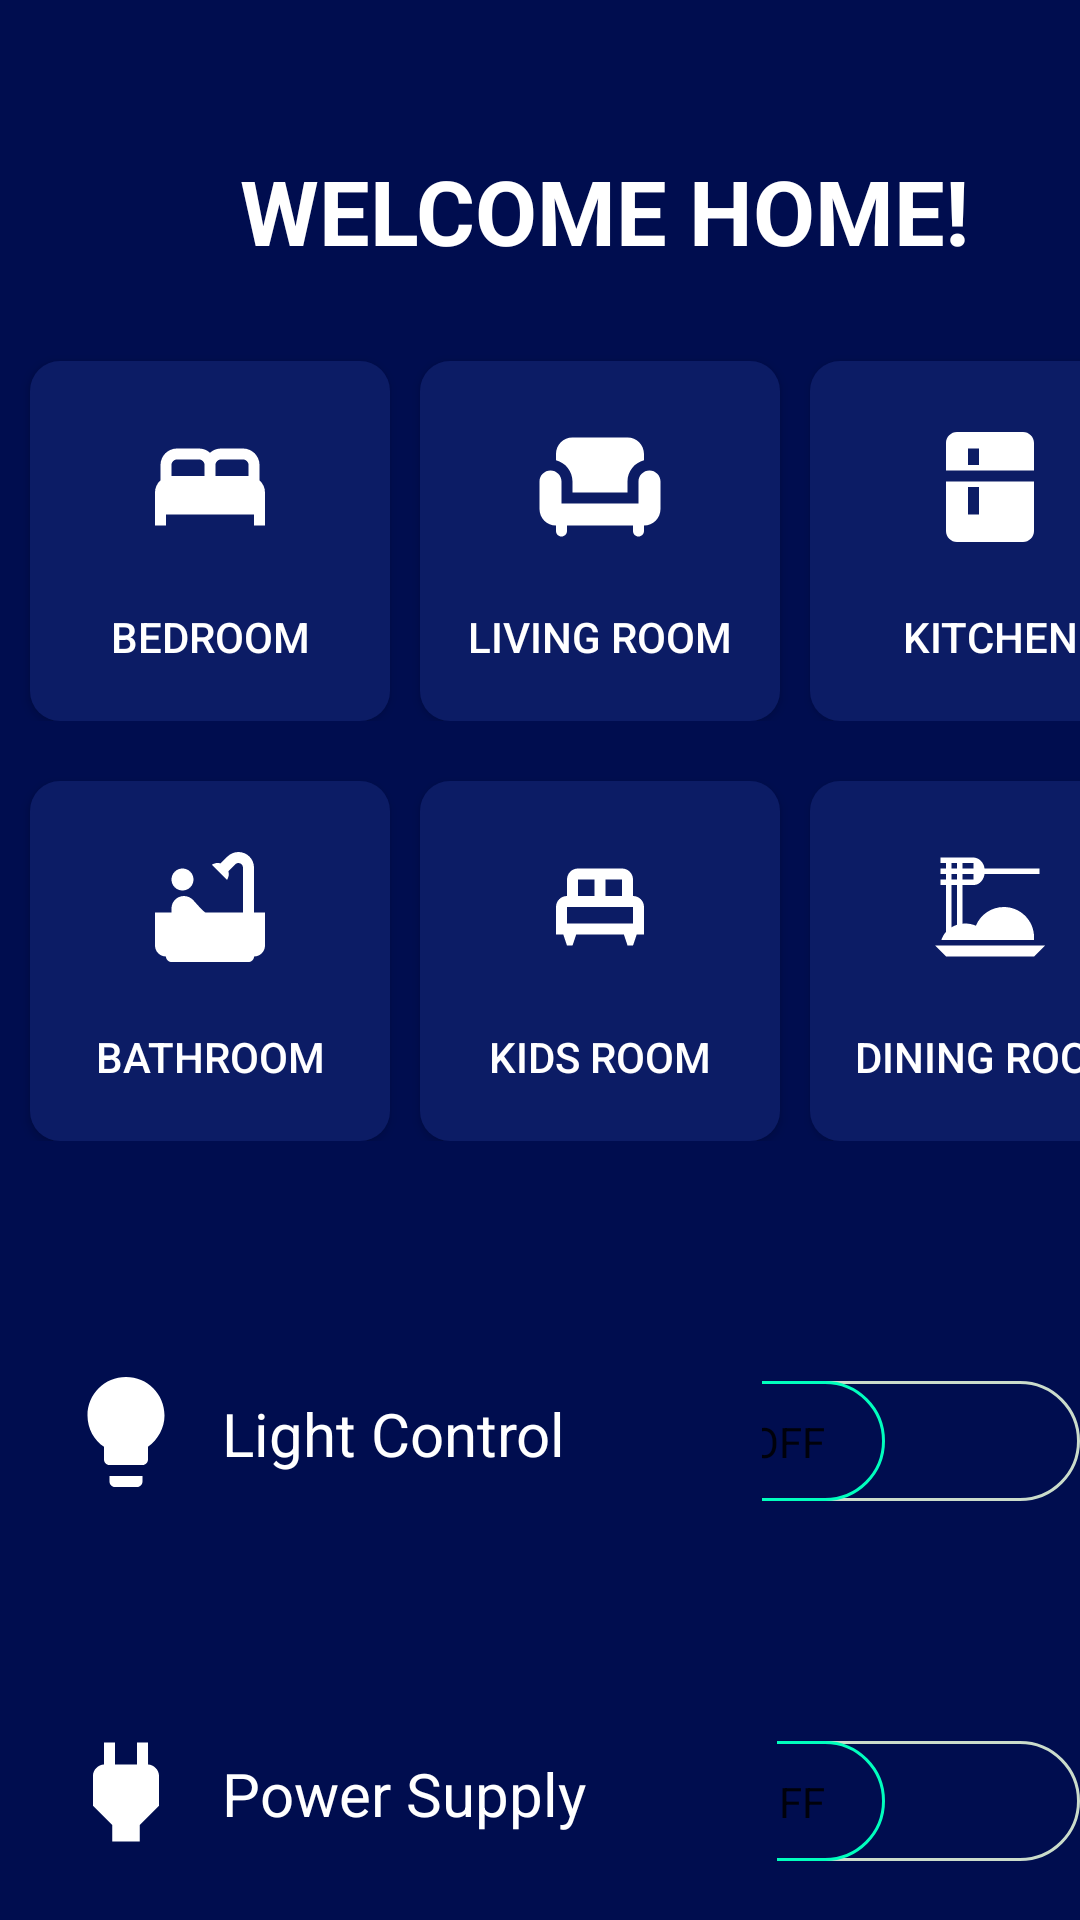

Where icons sit on this 1080px x 1920px app screen, as (x1, y1, x2, y2):
lightbulb: (87, 1377, 165, 1487)
